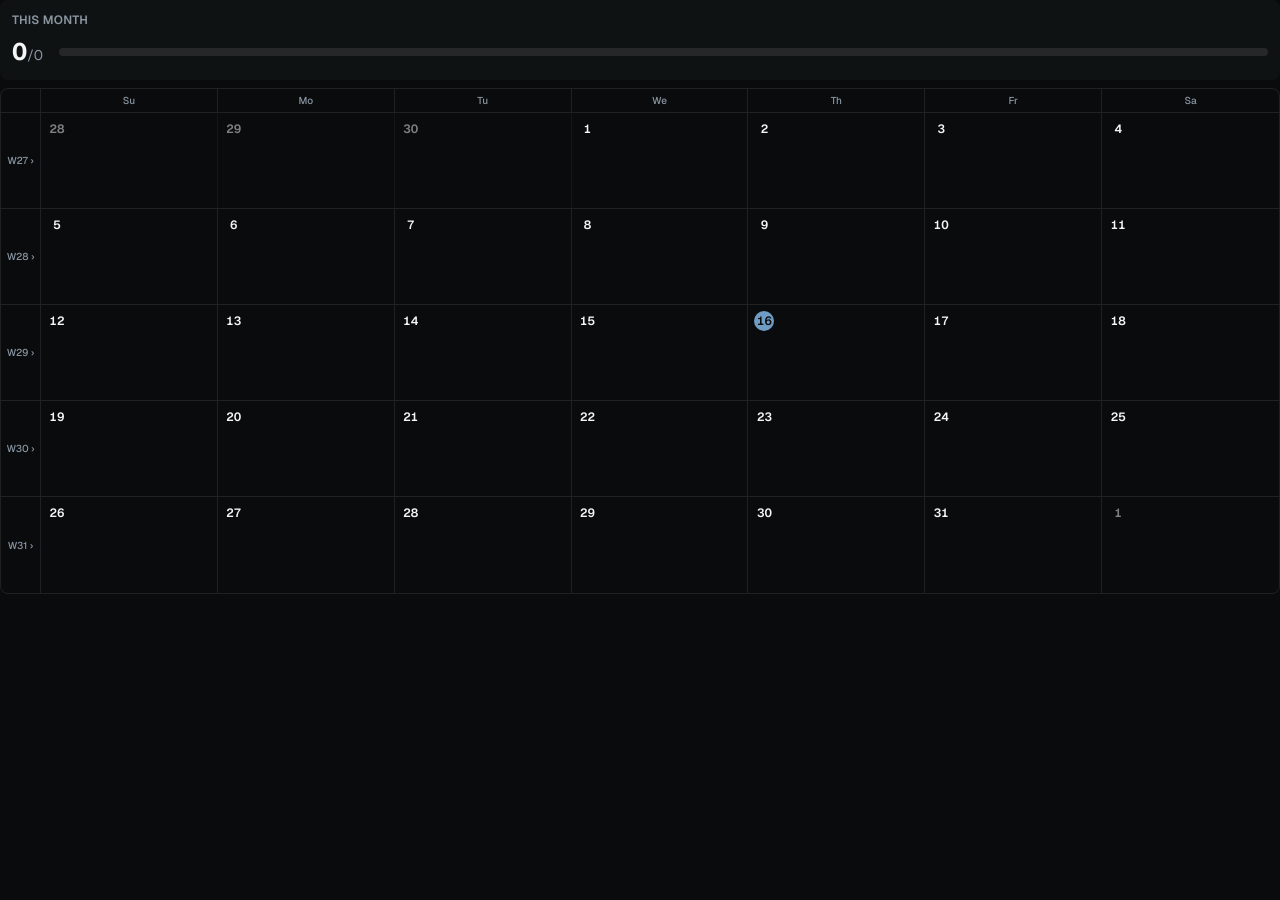
Test: MonthlyView › selecting a task inside the day-agenda drawer shows only the task-detail drawer (single overlay layer)
Click the button named "Open 2026-07-14" at [483, 352], box [395, 305, 572, 400]
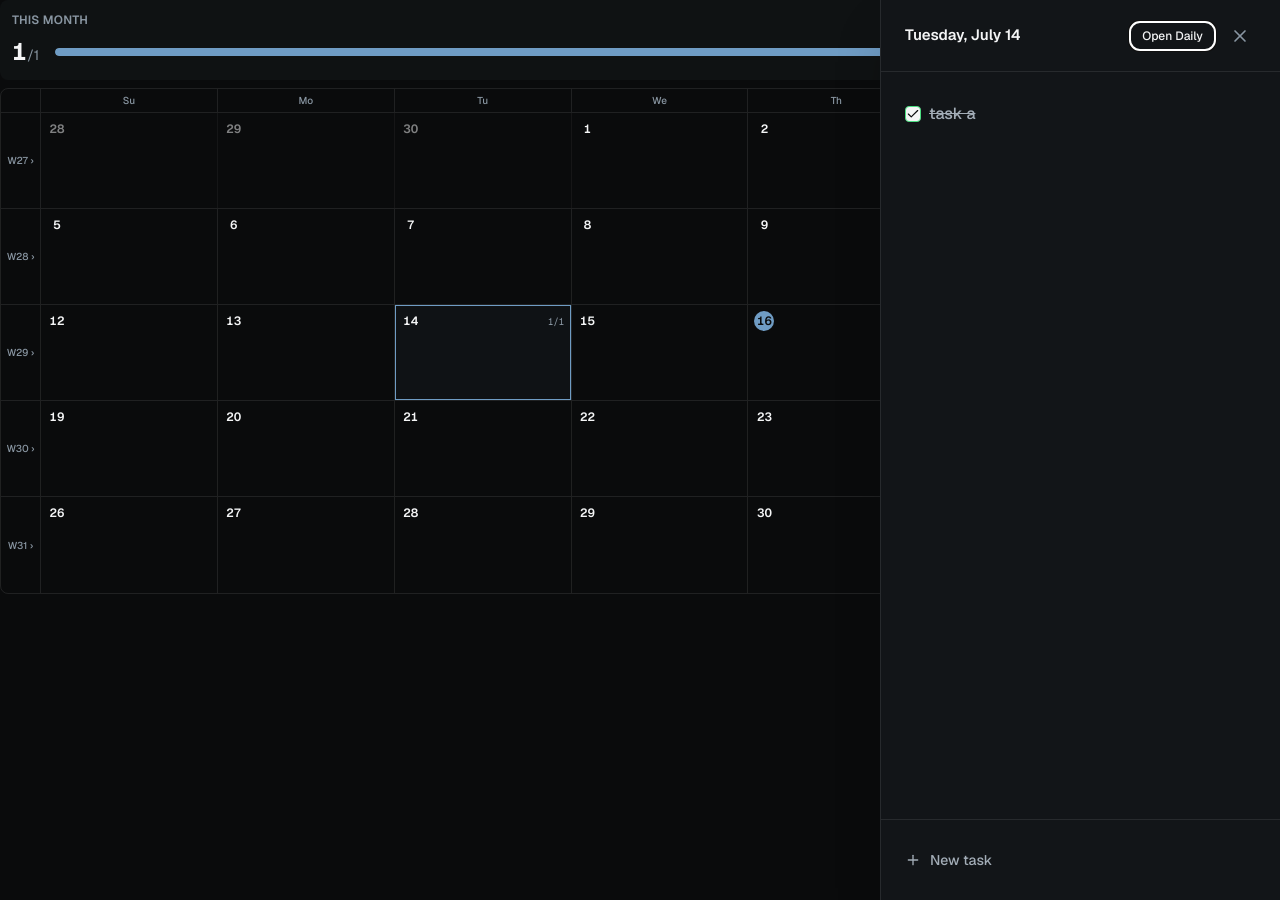
expect the dialog with test id "day-agenda-drawer" is shown: met, box [880, 0, 1279, 899]
expect the button "task a" is shown: met
Click the button "task a" at [952, 114], box [929, 102, 1256, 126]
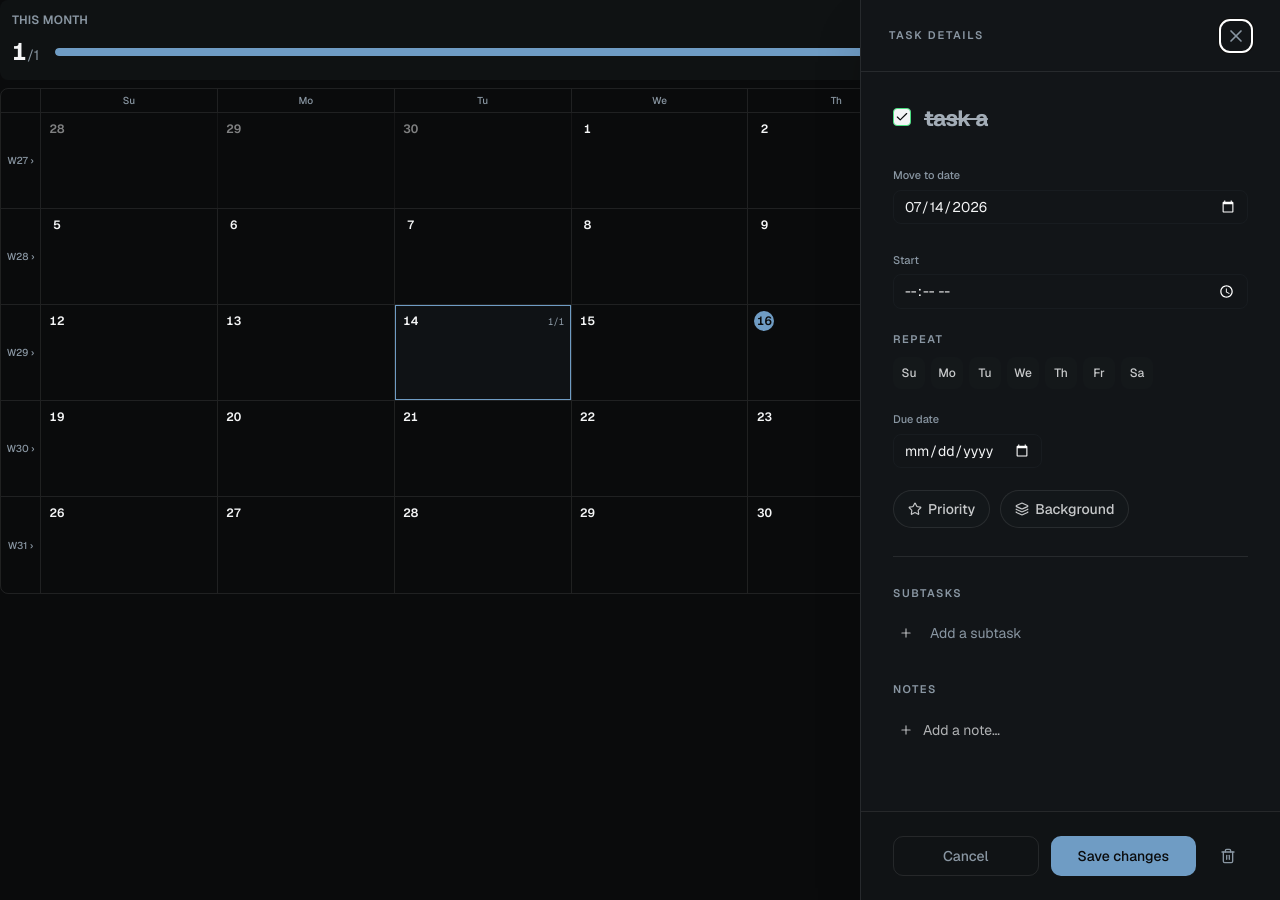
expect the dialog with test id "task-detail-drawer" is shown: met, box [860, 0, 1279, 899]
expect the dialog with test id "day-agenda-drawer" is gone: met
